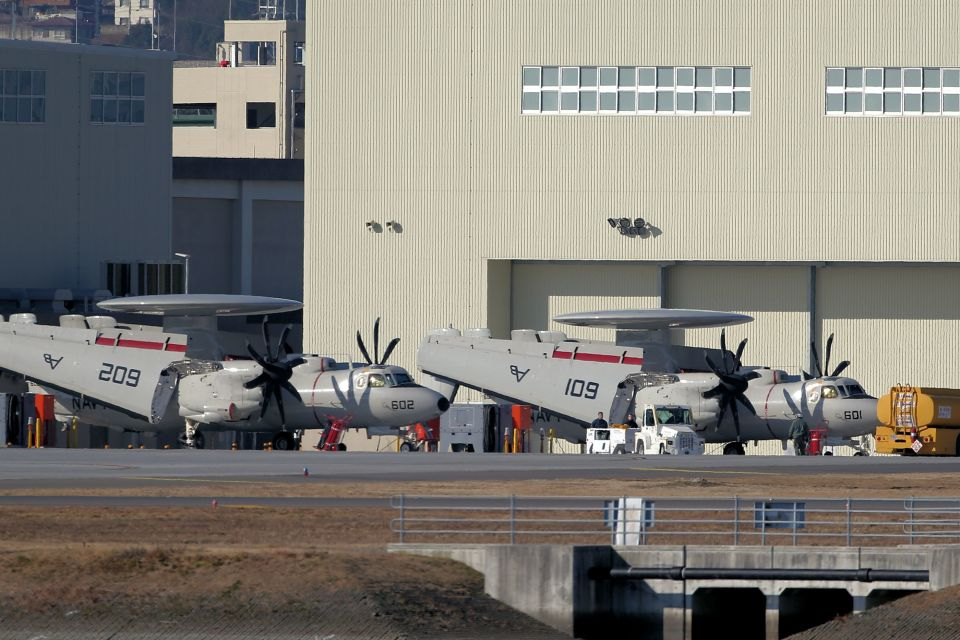E2: (1, 293, 451, 452), (415, 308, 885, 457)
